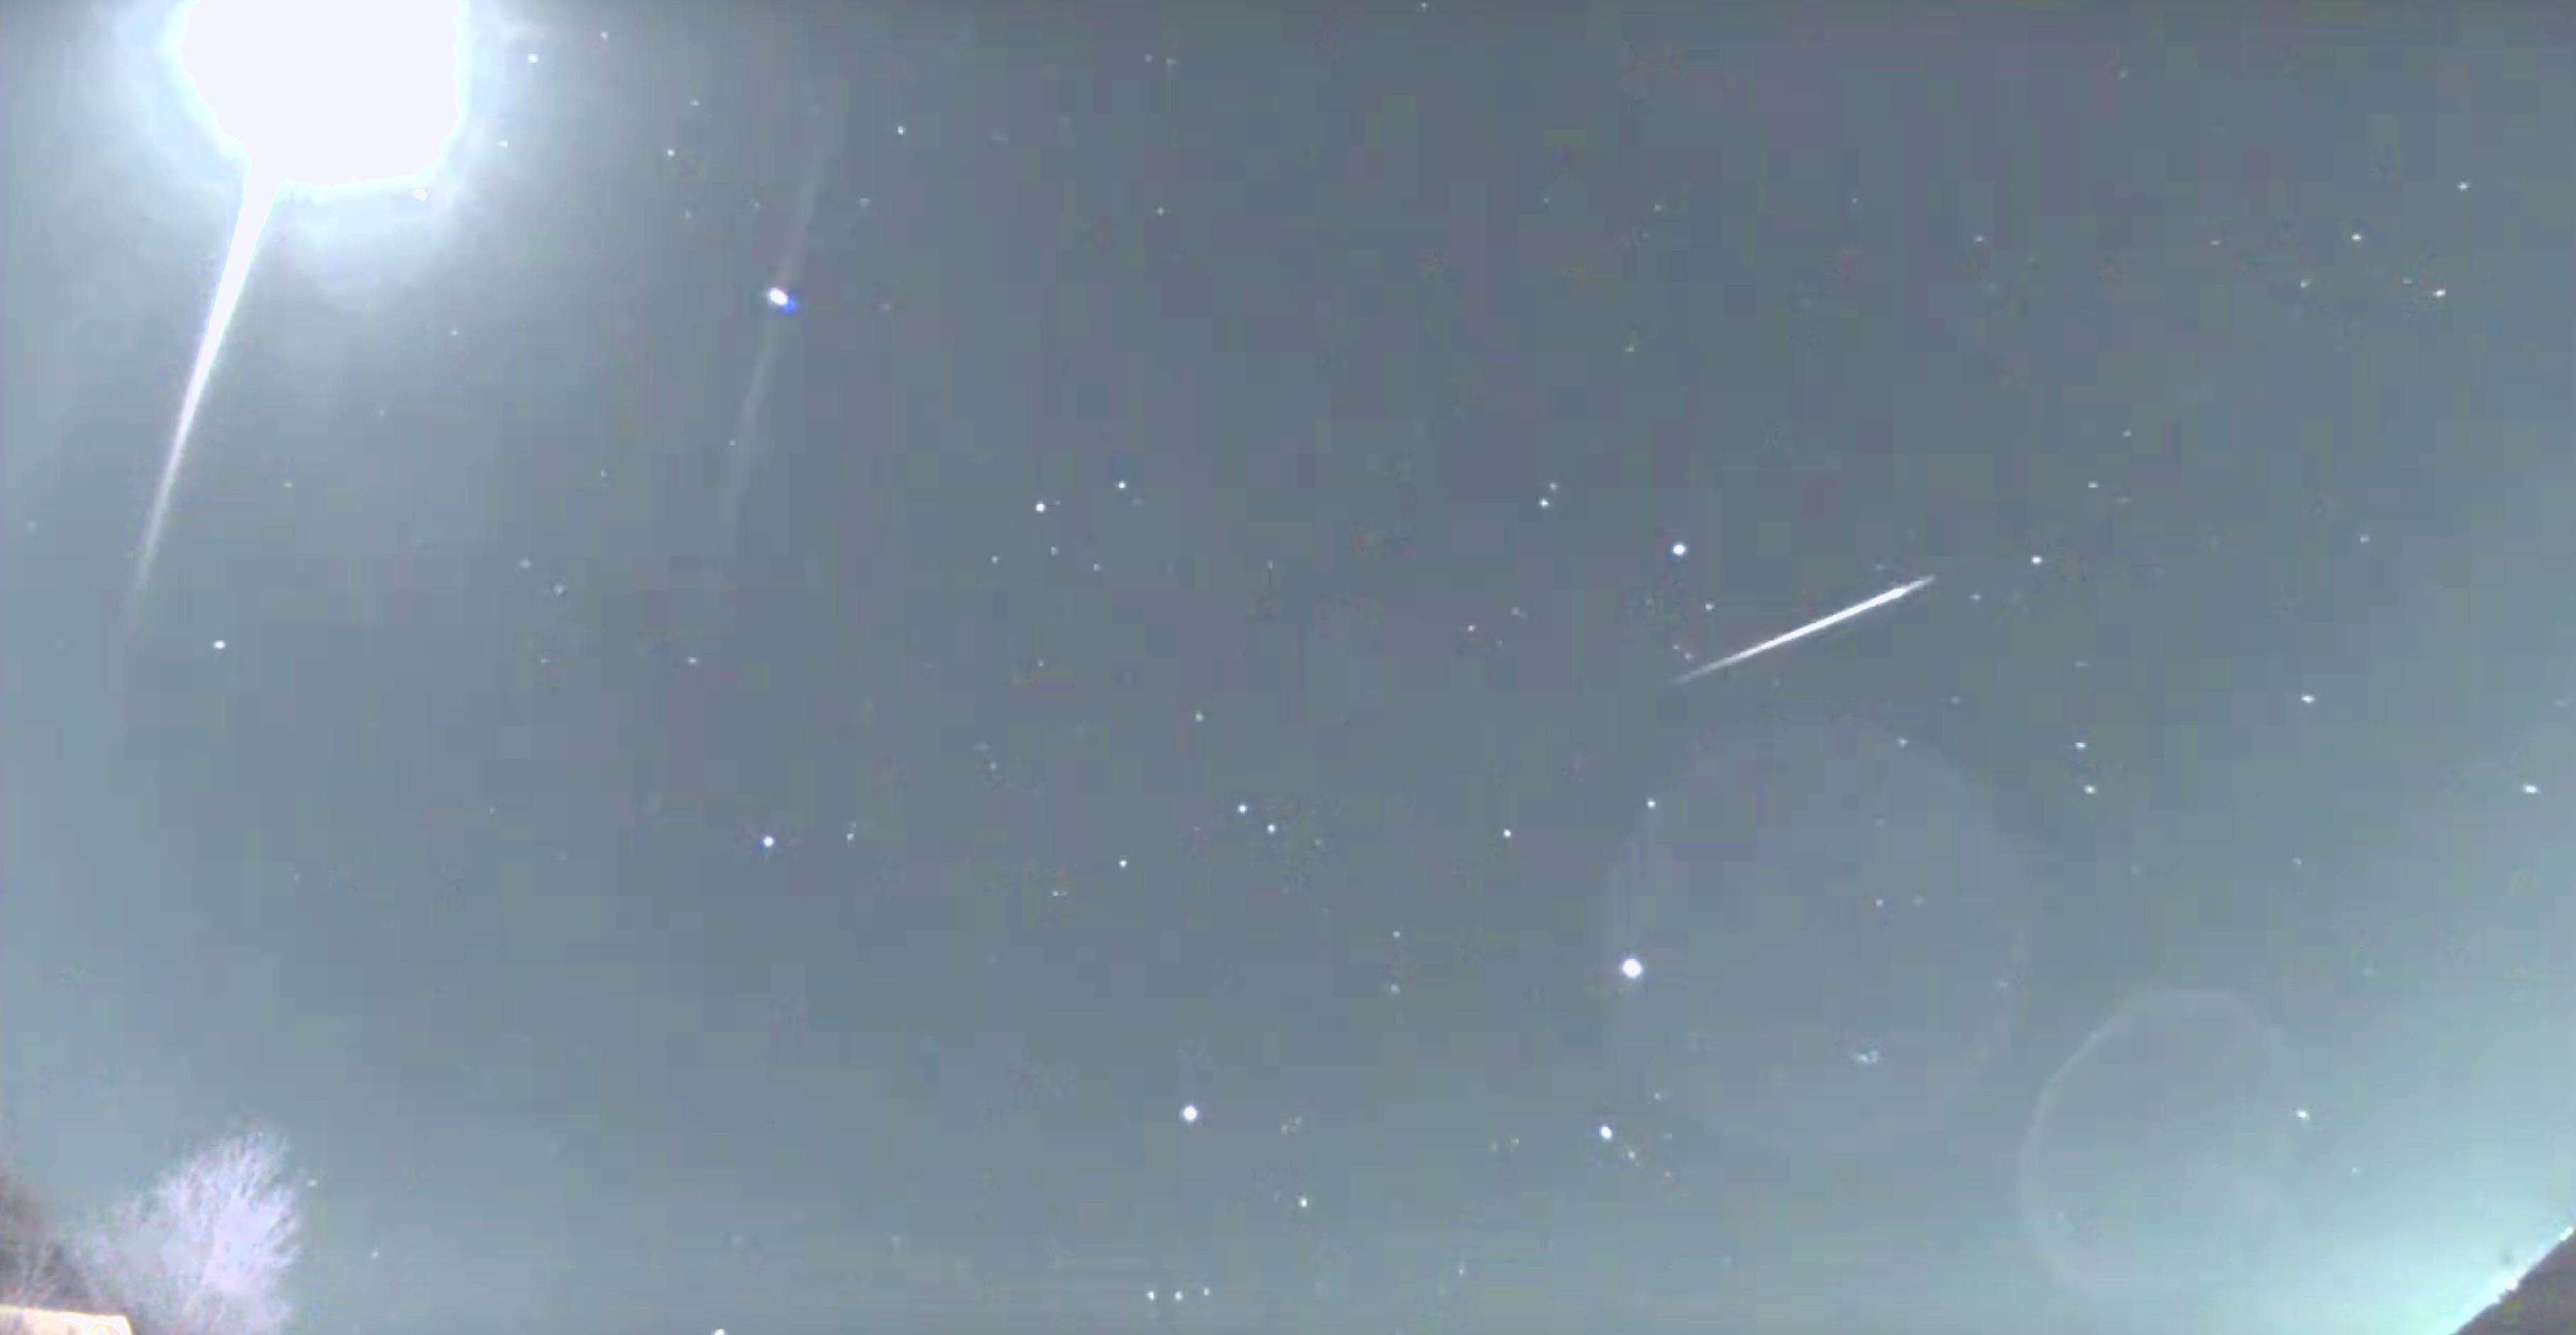meteorite: (1603, 552, 2028, 696)
